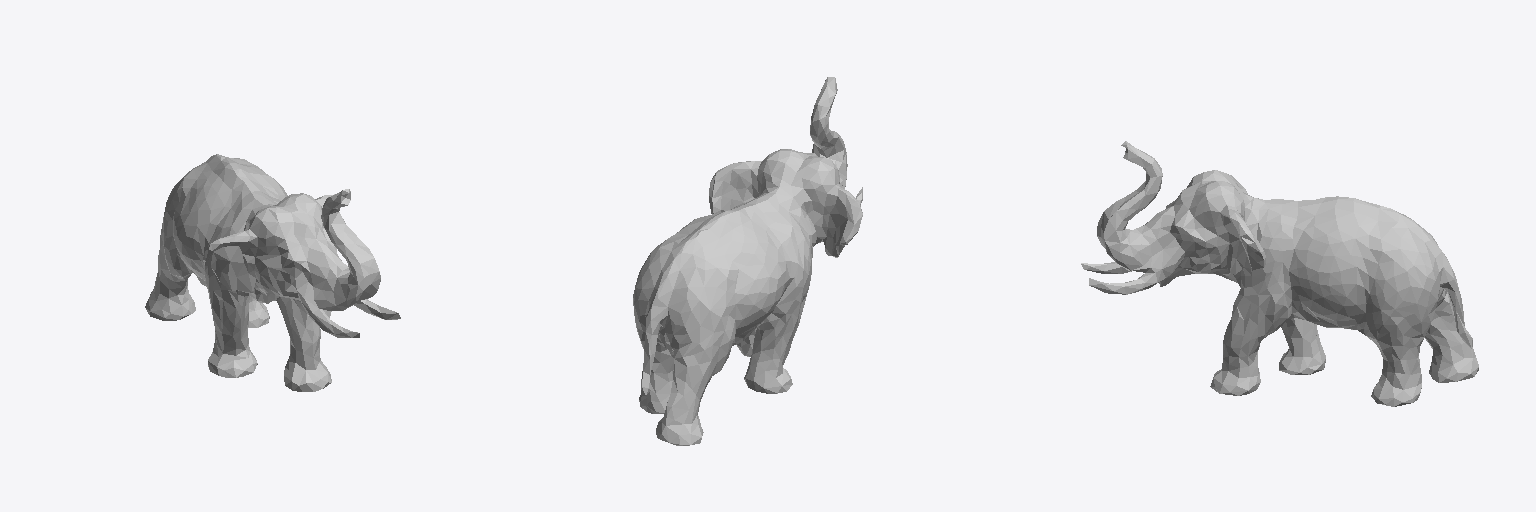
The model's file is elephant.obj.
3 renders of one model, left to right at view 1: azimuth 30°, elevation 25°; view 2: azimuth 150°, elevation 25°; view 3: azimuth 270°, elevation 25°, orthographic.
Bounding box in the file's own units: 1.2 × 1.94 × 2.92.